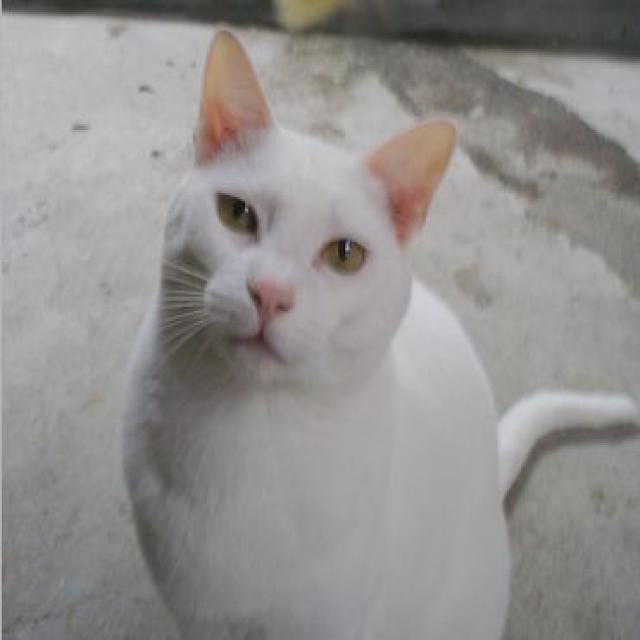cat: (120, 27, 639, 639)
